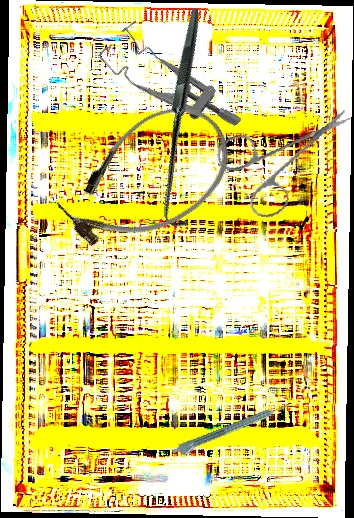Cannula: (42, 86, 251, 272)
Handpiece: (170, 401, 291, 461)
Hook Surgical: (73, 7, 300, 233)
Iris Scissors: (205, 86, 354, 231)
Speculum: (96, 11, 243, 162)
